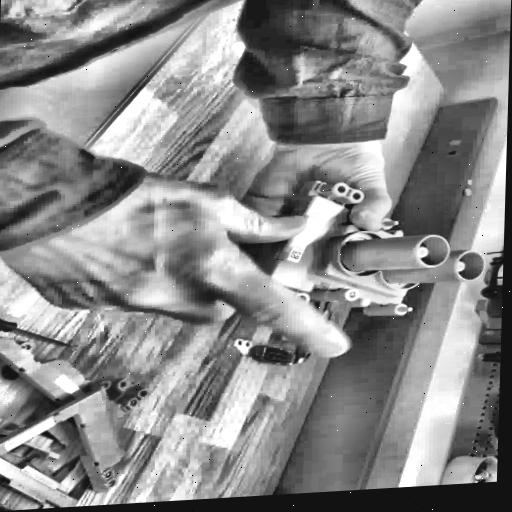connector: (213, 166, 506, 332)
